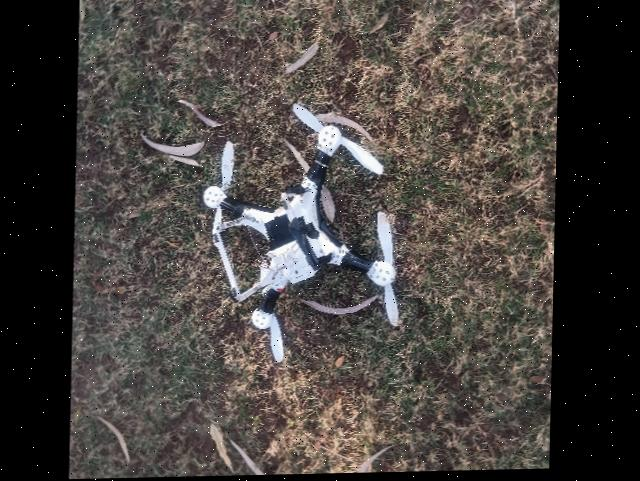drone: (183, 74, 424, 377)
